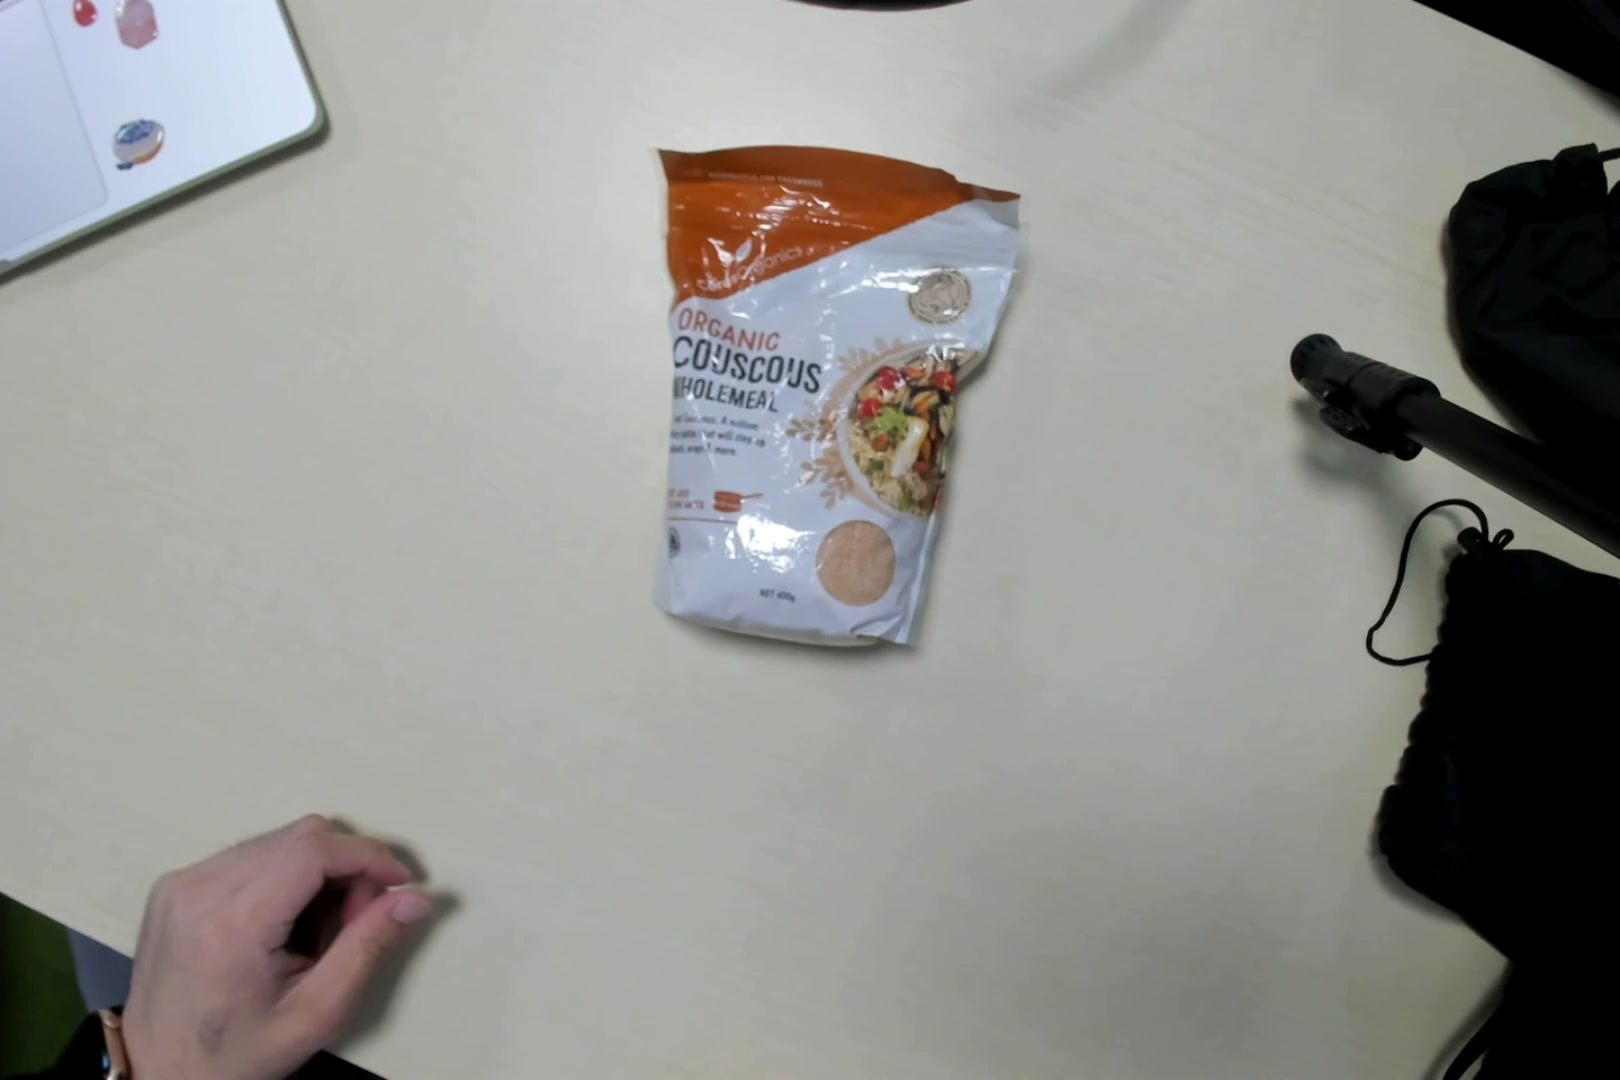Rice(BrownOthers)_300-399g_NonHalal_NonHealthy: (656, 142, 1025, 662)
